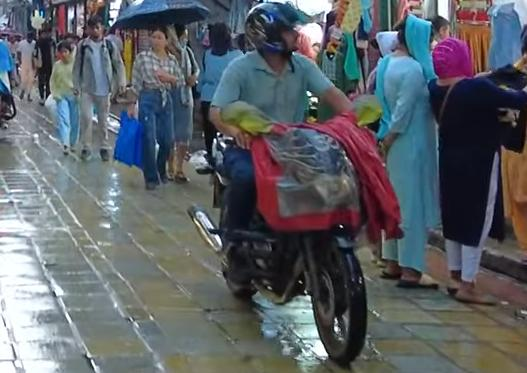bike: (182, 92, 393, 366)
